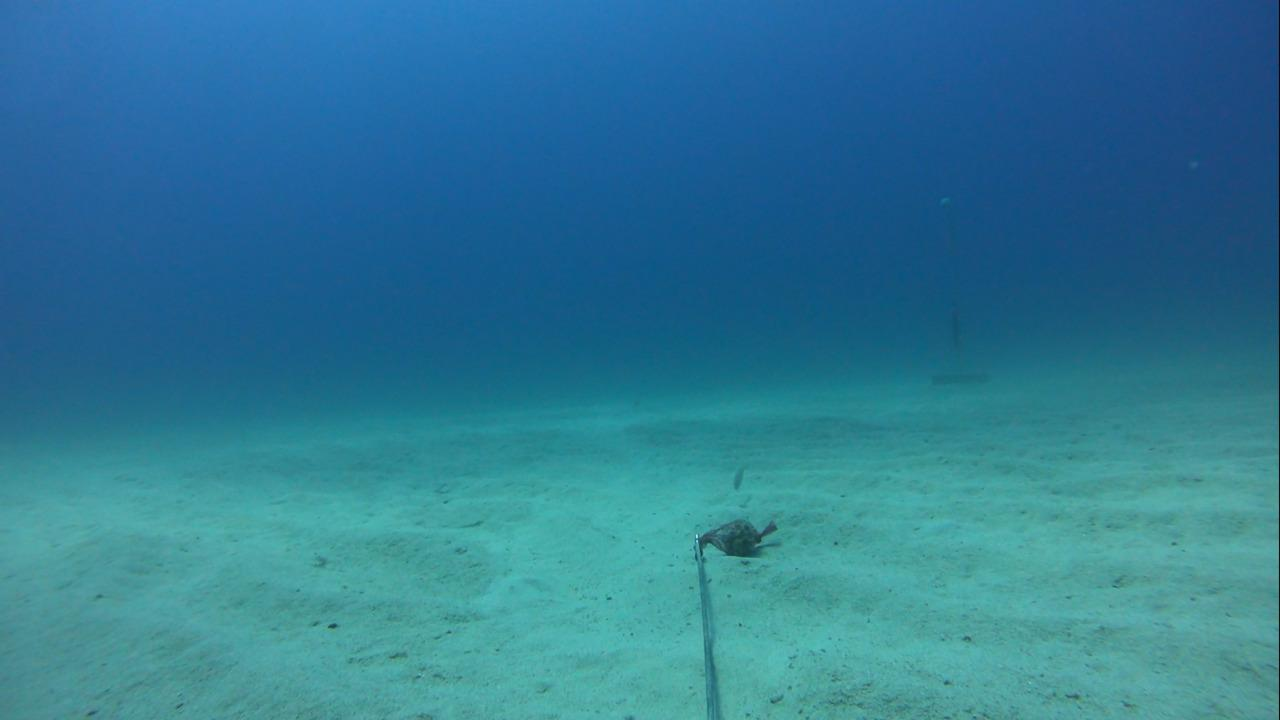raor: (721, 456, 755, 493)
